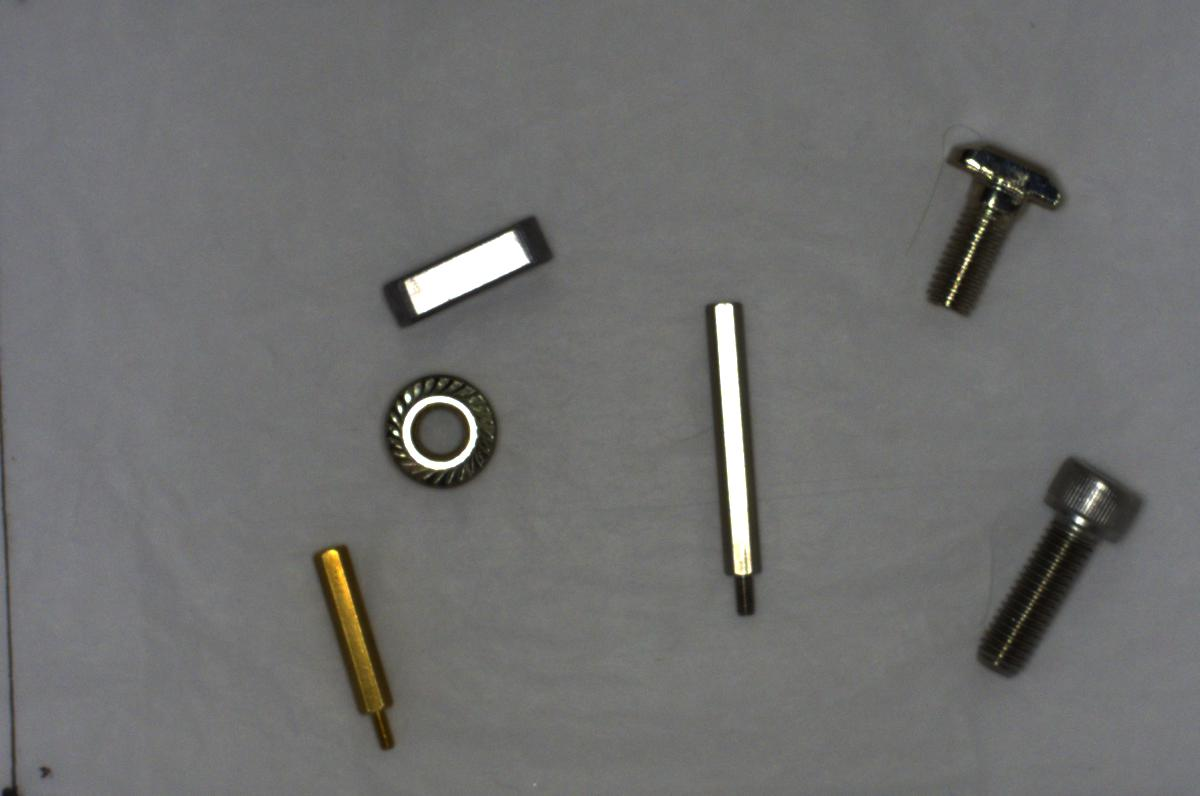Flange nut: (375, 363, 507, 490)
Hexagon pillar: (307, 536, 404, 756)
Hexagon screw: (971, 443, 1151, 680)
Hexagonal steel column: (698, 288, 768, 628)
Keybar: (380, 210, 552, 334)
T-shaped screw: (920, 132, 1067, 321)
